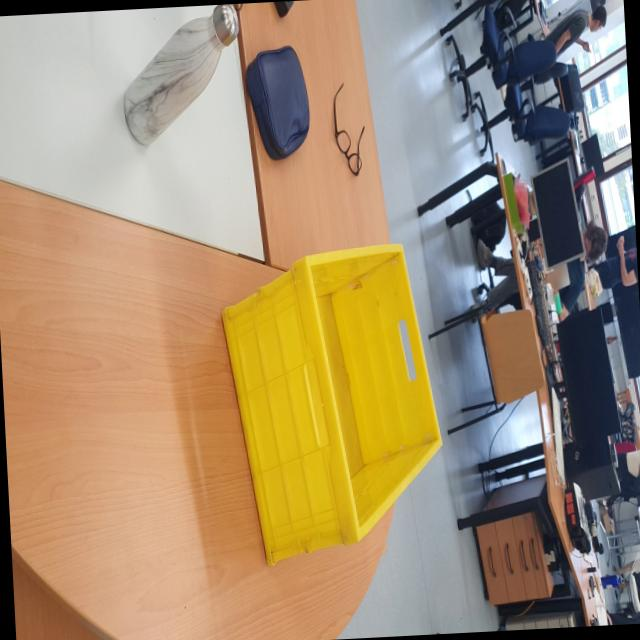box: (208, 230, 459, 596)
